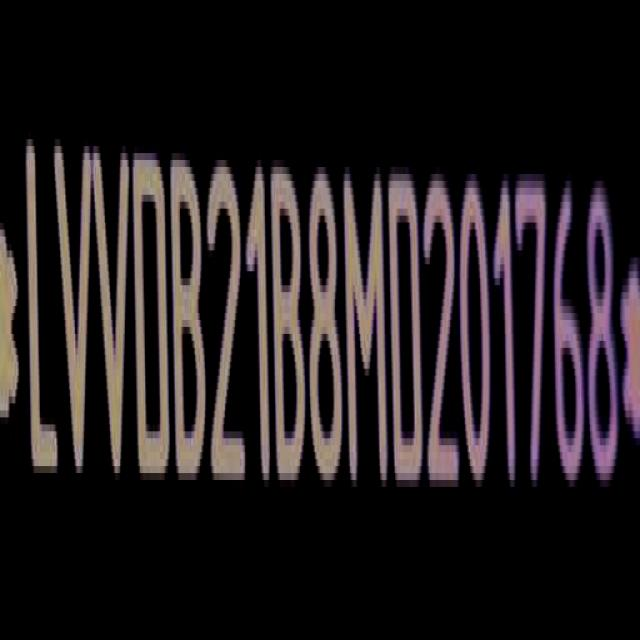0: (462, 175, 494, 495)
1: (493, 172, 518, 508), (249, 163, 273, 493)
2: (208, 164, 246, 495), (425, 171, 459, 495)
6: (553, 175, 588, 492)
7: (518, 167, 552, 495)
8: (309, 165, 342, 488), (588, 183, 620, 487)
B: (175, 156, 210, 493), (272, 160, 306, 489)
D: (132, 146, 168, 487), (392, 170, 425, 492)
L: (23, 116, 60, 484)
M: (345, 167, 388, 492)
V: (55, 136, 94, 485), (95, 139, 134, 487)
